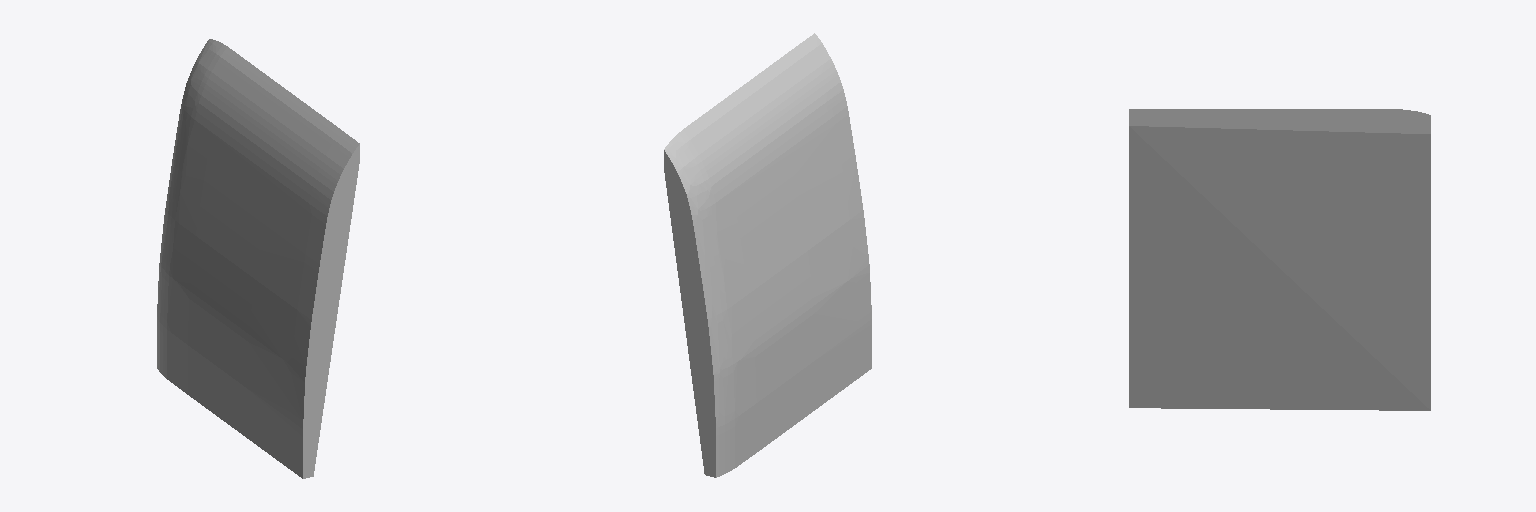
Rendered from laundry_basket_collision_23.obj.
3 renders of one model, left to right at view 1: azimuth 30°, elevation 25°; view 2: azimuth 150°, elevation 25°; view 3: azimuth 270°, elevation 25°, orthographic.
Bounding box in the file's own units: 0.2308 × 1.25 × 1.06.